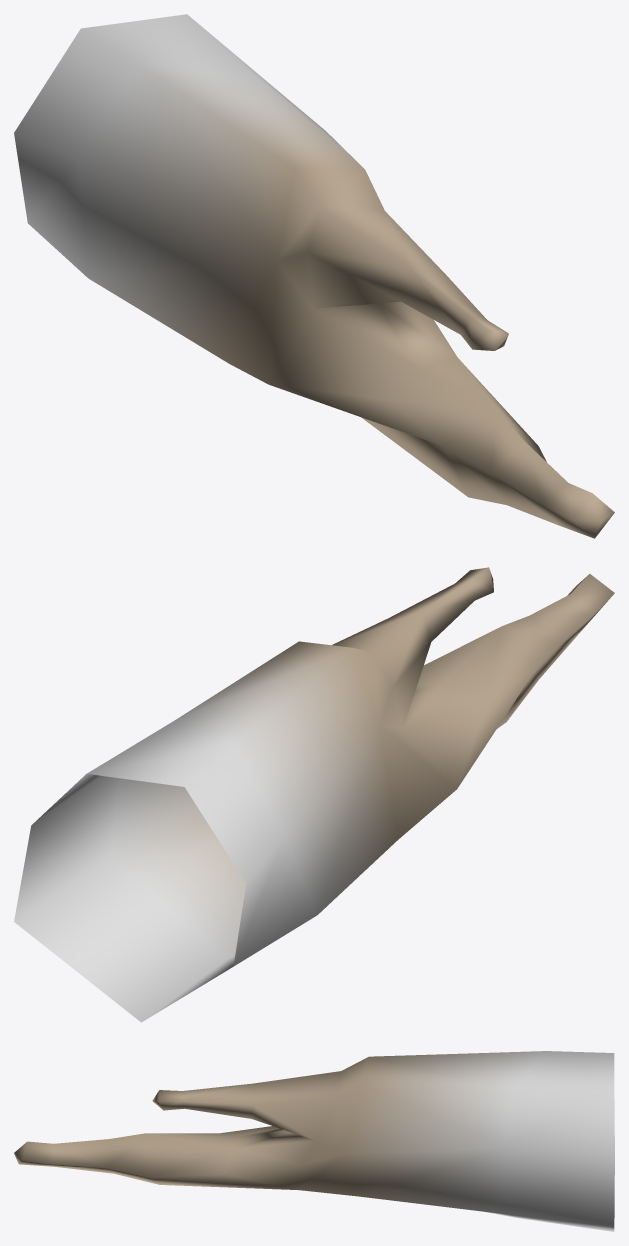
File: Stalactites_A_lod1.glb
3 renders of one model, top to bottom at view 1: azimuth 30°, elevation 25°; view 2: azimuth 150°, elevation 25°; view 3: azimuth 270°, elevation 25°, orthographic. The views are drawn at different scales.
Parts seen in each view (by area): view 1: MeshNode_0; view 2: MeshNode_0; view 3: MeshNode_0.
Boxes of the visible parts, x1,y1,x2,y2 form: MeshNode_0: [14, 14, 614, 538]; MeshNode_0: [14, 567, 614, 1022]; MeshNode_0: [14, 1051, 614, 1231].
Size of the model in its own units: 3.13 by 3.2 by 10.41.
